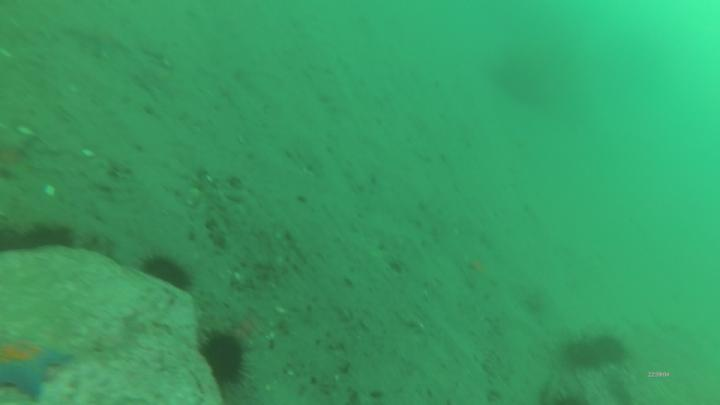echinus: (204, 336, 245, 384), (144, 255, 189, 289), (591, 335, 625, 364), (568, 343, 596, 370)
starfish: (3, 337, 72, 400)
